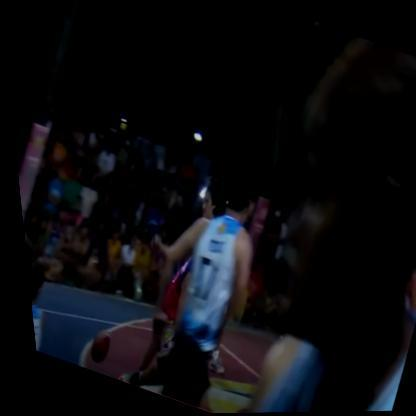basketball: (76, 326, 109, 367)
